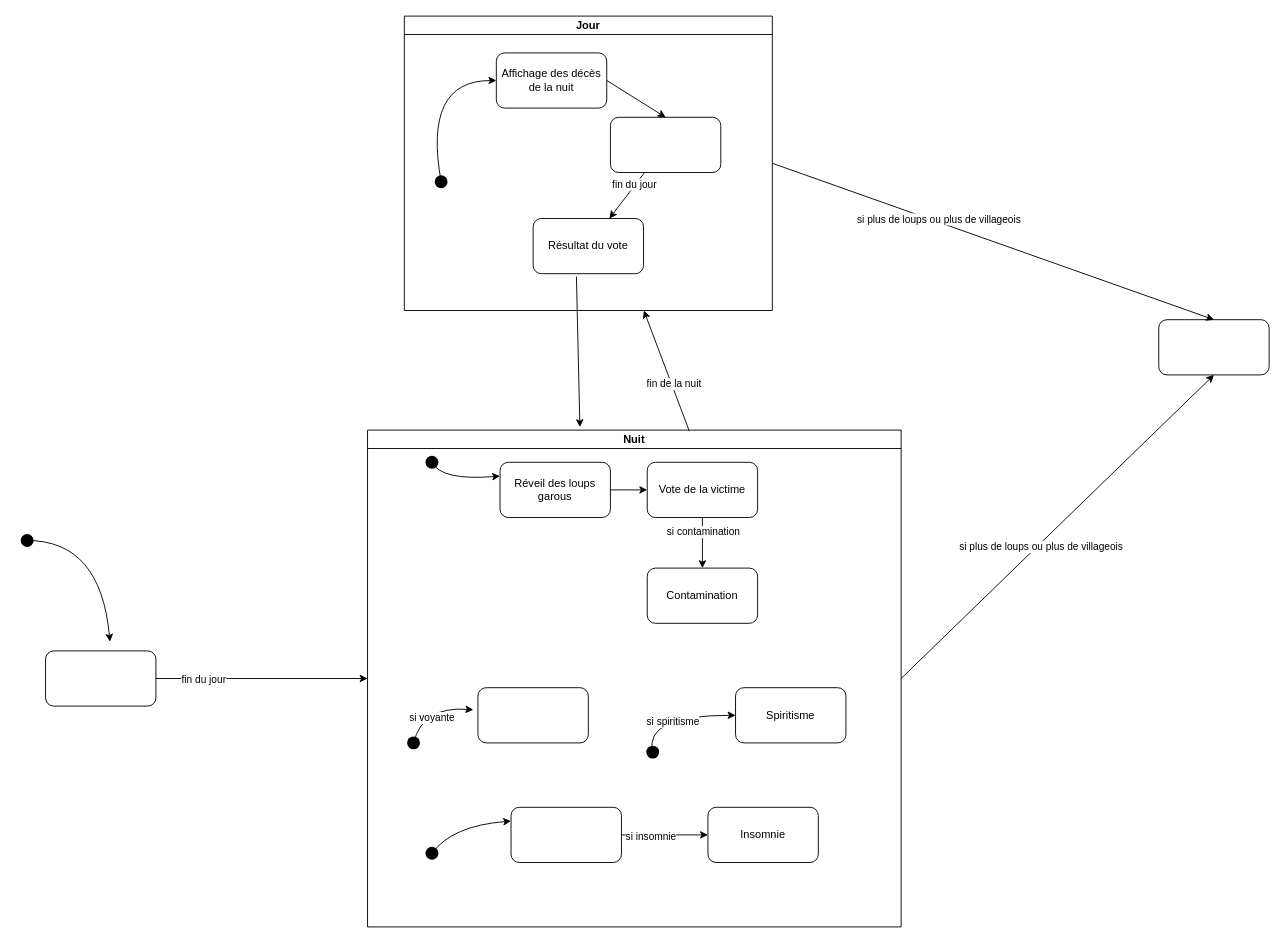
Some shapes in this 1285 by 943 pixel diagram are drawn without their labels. Here are the shapes that lost their labels. From the top down, the centre of each, then its label:
At point (665, 144): "Vote".
At point (1213, 347): "Fin de partie".
At point (100, 678): "Premier jour".
At point (532, 715): "Voyante".
At point (565, 834): "Endormissement des villageois".
